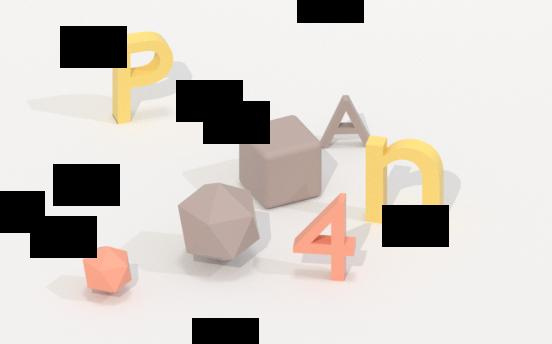4: (291, 191, 357, 284)
A-hoa: (318, 92, 374, 153)
dagiac: (177, 183, 261, 263), (81, 247, 132, 296)
hop: (237, 114, 324, 209)
n: (364, 132, 447, 232)
p: (111, 34, 175, 127)
